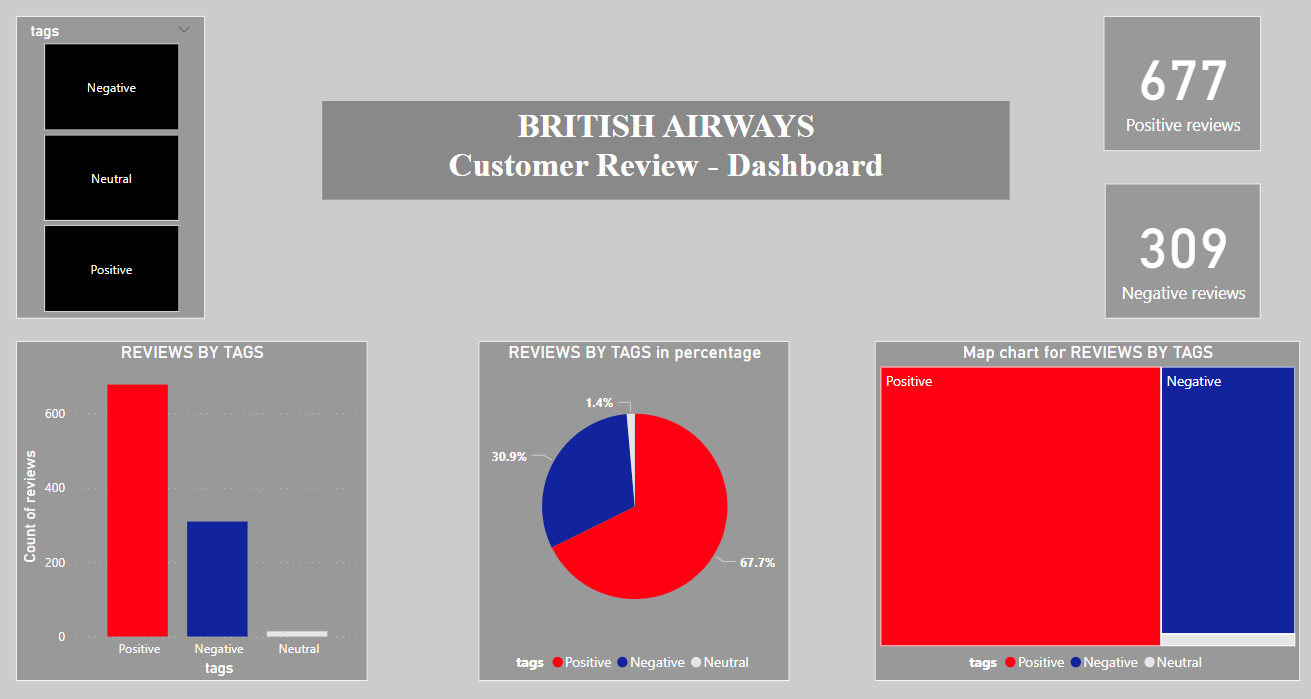

This screenshot's page, from the dashboard's own definition file:
{"tool":"powerbi","page":{"name":"Page 1","canvas":[1280,720],"ordinal":0},"visuals":[{"type":"pieChart","title":"REVIEWS BY TAGS  in percentage","fields":{"Category":["BA_reviews_dashboard.tags"],"Y":["CountNonNull(BA_reviews_dashboard.reviews)"]},"box":[475.2,347.3,300.3,328],"z":0},{"type":"treemap","title":"Map chart for REVIEWS BY TAGS","fields":{"Group":["BA_reviews_dashboard.tags"],"Values":["CountNonNull(BA_reviews_dashboard.reviews)"]},"box":[857.5,347.3,410.1,328],"z":1000},{"type":"clusteredColumnChart","title":"REVIEWS BY TAGS","fields":{"Category":["BA_reviews_dashboard.tags"],"Y":["CountNonNull(BA_reviews_dashboard.reviews)"]},"box":[28.9,347.3,338.9,328],"z":2000},{"type":"card","fields":{"Values":["BA_reviews_dashboard.Positive reviews"]},"box":[1078.2,33.8,152,130.3],"z":4000},{"type":"card","fields":{"Values":["BA_reviews_dashboard.Negative reviews"]},"box":[1079.4,195.4,150.8,130.3],"z":4001},{"type":"slicer","fields":{"Values":["BA_reviews_dashboard.tags"]},"box":[28.9,33.8,182.1,291.9],"z":4002},{"type":"textbox","box":[324.4,115.8,663.3,95.3],"z":4003}]}

Visuals, with their boxes in screenshot pixels (x1, y1, x2, y2):
"REVIEWS BY TAGS  in percentage" pieChart: (426,342,703,645)
"Map chart for REVIEWS BY TAGS" treemap: (779,342,1158,645)
"REVIEWS BY TAGS" clusteredColumnChart: (13,342,326,645)
card - BA_reviews_dashboard.Positive reviews: (983,52,1124,172)
card - BA_reviews_dashboard.Negative reviews: (984,201,1124,322)
slicer - BA_reviews_dashboard.tags: (13,52,181,322)
textbox: (286,128,900,216)
